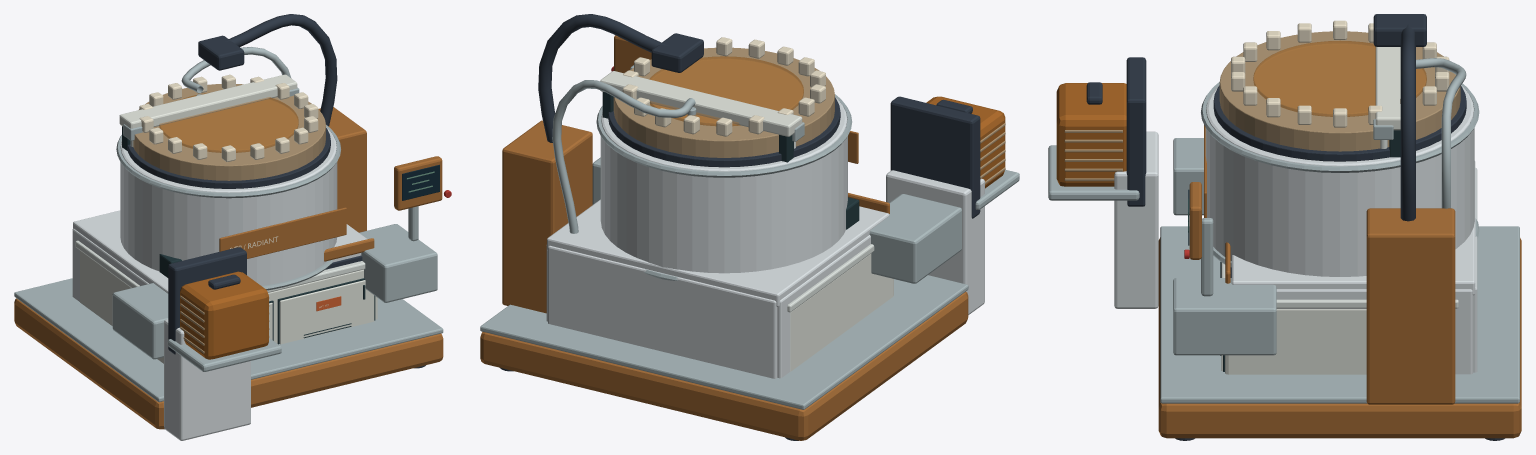
File: equipment-rtp.glb
3 renders of one model, left to right at view 1: azimuth 30°, elevation 25°; view 2: azimuth 150°, elevation 25°; view 3: azimuth 270°, elevation 25°, orthographic. The views are drawn at different scales.
Visible parts, largest first — view 1: Radiant thermal reflector housing, Raised deck edge, Circular lamp crown bezel, Segmented service plinth, Independent load port base, Amber wafer transport pod, Upper reflector window, RTP load lock enclosure.001, Service door.001, Cover support crosshead, RTP load lock enclosure, Instrument engraved nameplate (+16 smaller); view 2: Radiant thermal reflector housing, Rear utility enclosure, Segmented service plinth, Raised deck edge, Circular lamp crown bezel, Reflective lamp power cabinet, Pod docking bulkhead, Filtered ceiling, RTP load lock enclosure, Precision cabinet, Upper reflector window, Independent load port base (+11 smaller); view 3: Radiant thermal reflector housing, Raised deck edge, Reflective lamp power cabinet, Circular lamp crown bezel, Segmented service plinth, Upper reflector window, RTP load lock enclosure.001, Precision cabinet, Amber wafer transport pod, Independent load port base, Filtered ceiling, Optical pyrometer mast (+13 smaller).
Boxes of the visible parts, x1,y1,x2,y2 form: Radiant thermal reflector housing: [120, 127, 337, 285]; Raised deck edge: [14, 278, 443, 402]; Circular lamp crown bezel: [133, 84, 325, 180]; Segmented service plinth: [14, 298, 443, 429]; Independent load port base: [164, 319, 250, 440]; Amber wafer transport pod: [180, 271, 268, 359]; Upper reflector window: [159, 93, 298, 152]; RTP load lock enclosure.001: [359, 224, 437, 302]; Service door.001: [279, 280, 374, 344]; Cover support crosshead: [119, 74, 297, 128]; RTP load lock enclosure: [112, 283, 168, 359]; Instrument engraved nameplate: [219, 207, 346, 258]; Radiant thermal reflector housing: [600, 97, 847, 273]; Rear utility enclosure: [548, 245, 777, 378]; Segmented service plinth: [480, 292, 968, 440]; Raised deck edge: [480, 275, 968, 409]; Circular lamp crown bezel: [613, 47, 834, 157]; Reflective lamp power cabinet: [502, 120, 592, 313]; Pod docking bulkhead: [890, 96, 980, 218]; Filtered ceiling: [547, 199, 889, 306]; RTP load lock enclosure: [869, 194, 961, 283]; Precision cabinet: [790, 253, 893, 371]; Upper reflector window: [649, 56, 803, 125]; Independent load port base: [886, 170, 984, 314]; Radiant thermal reflector housing: [1205, 85, 1474, 276]; Raised deck edge: [1160, 226, 1519, 403]; Reflective lamp power cabinet: [1366, 208, 1455, 404]; Circular lamp crown bezel: [1219, 31, 1460, 151]; Segmented service plinth: [1158, 237, 1521, 438]; Upper reflector window: [1253, 41, 1426, 116]; RTP load lock enclosure.001: [1173, 278, 1276, 355]; Precision cabinet: [1225, 309, 1366, 374]; Amber wafer transport pod: [1056, 83, 1126, 186]; Independent load port base: [1114, 131, 1158, 308]; Filtered ceiling: [1231, 161, 1475, 295]; Optical pyrometer mast: [1400, 23, 1415, 221].
Bounding box in the file's own units: 4.92 × 4.56 × 5.34.
